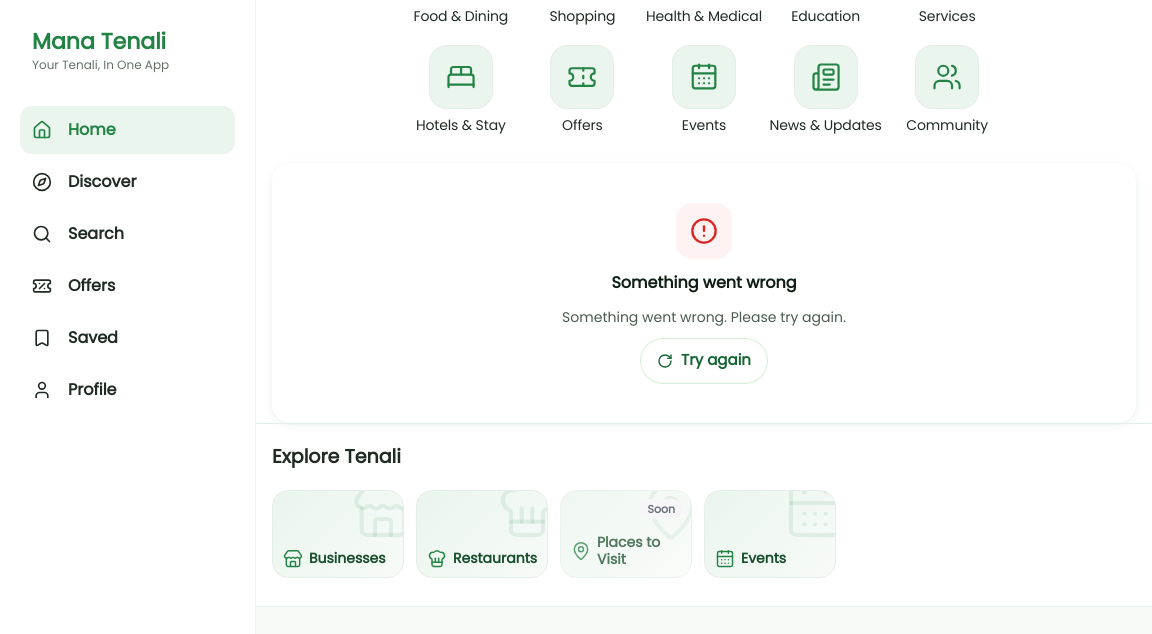
Test case: Home feed (GET /home) › keeps tiles and search working when the feed fails, with a retry
(page scrolled)
Check: the element "Explore Tenali" is shown, box [272, 442, 836, 578]
Click the button "Try again": click(704, 360) [641, 338, 767, 382]
(page scrolled)
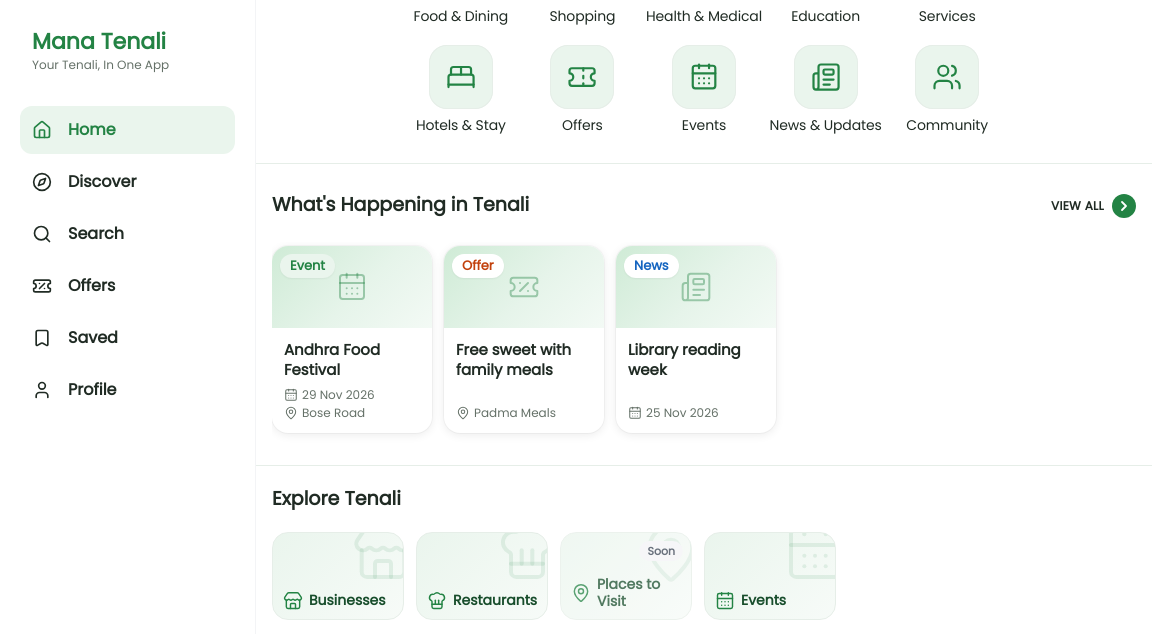
Check: the element "What's Happening in Tenali" is shown, box [256, 184, 1151, 445]
